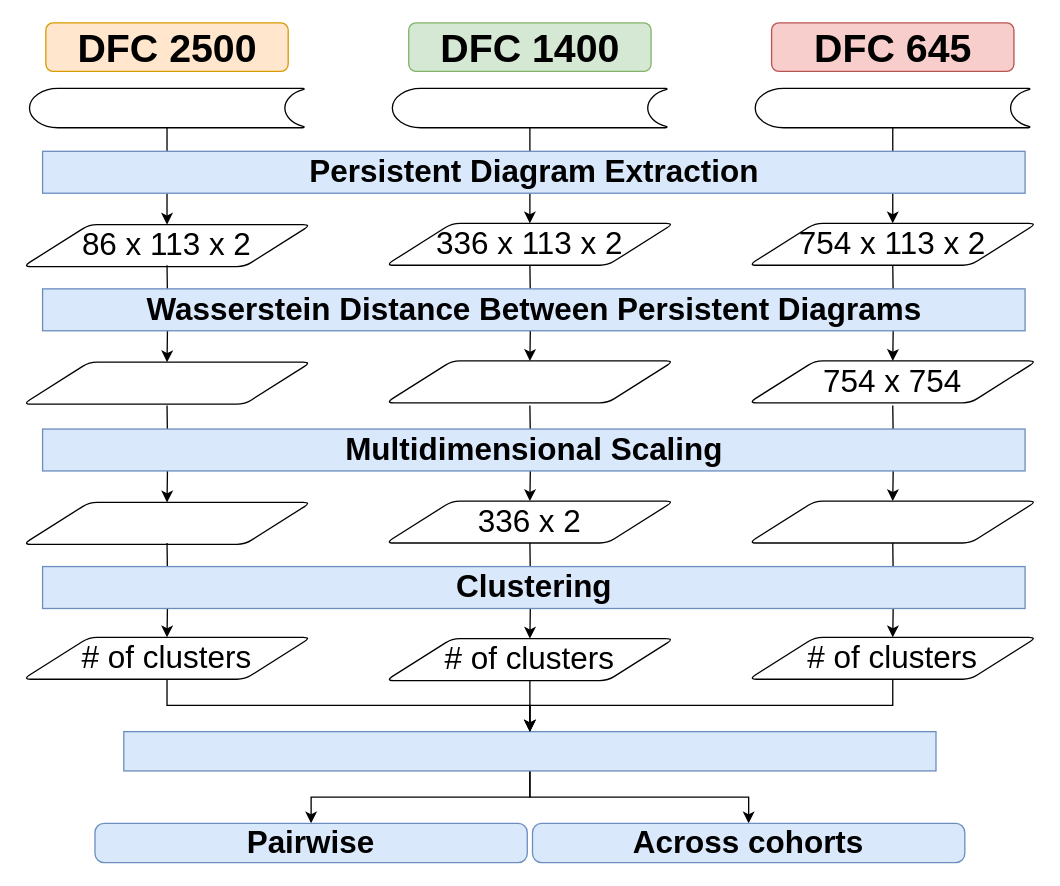
Image size: 1060x886. Some labels were removed from this diagram. Here are the shapes that lost their labels. From the top down, the centre of each, then its label:
At [166,107]: "86 x 113 x 113".
At [529,107]: "336 x 113 x 113".
At [892,107]: "754 x 113 x 113".
At [166,382]: "86 x 86".
At [529,381]: "336 x 336".
At [166,522]: "86 x 2".
At [892,521]: "754 x 2".
At [529,750]: "Statistical Analysis".
